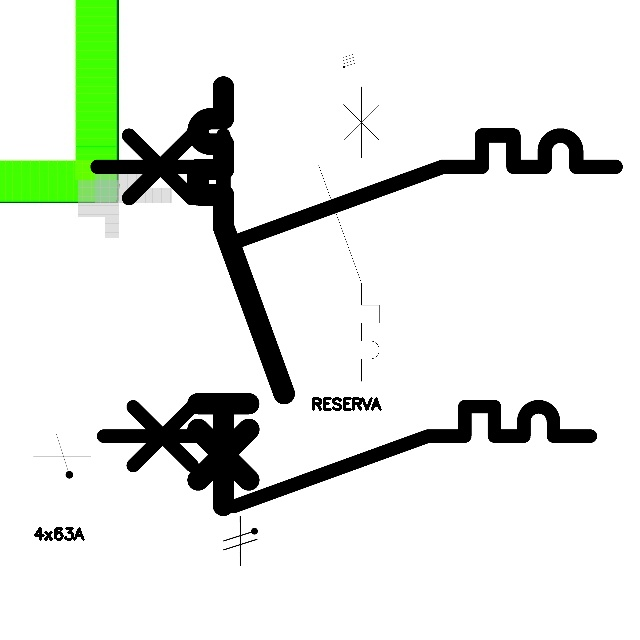interruptor_termomagnetico: (84, 122, 629, 255), (90, 394, 602, 519), (187, 76, 295, 516), (311, 79, 387, 389)
